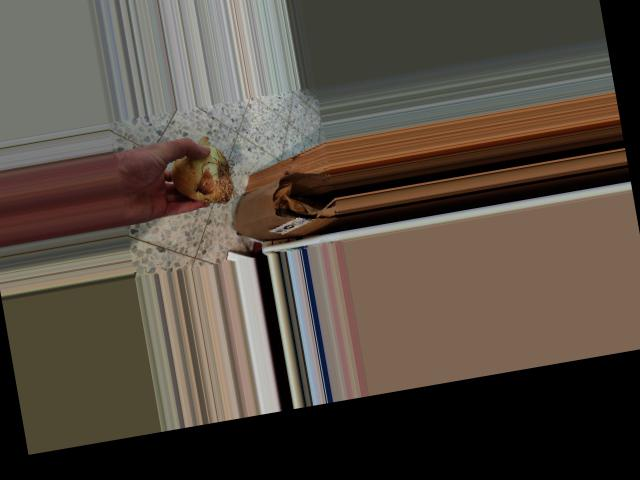onion: (163, 136, 241, 211)
